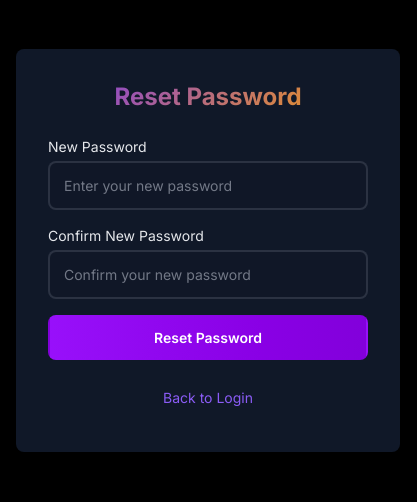
Test case: ResetPasswordClient › handles network error during password reset
In the password field labelled "New Password": (208, 185) [48,160,368,210], type "newpassword123"
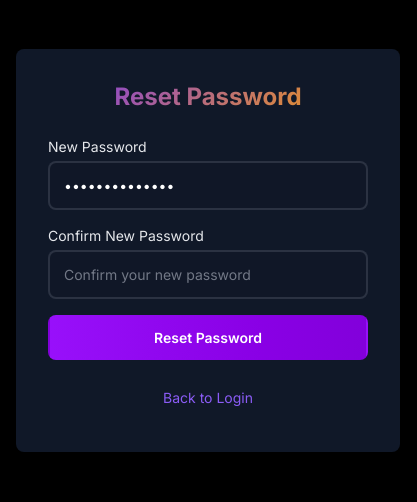
In the password field labelled "Confirm New Password": (208, 274) [48,250,368,298], type "newpassword123"
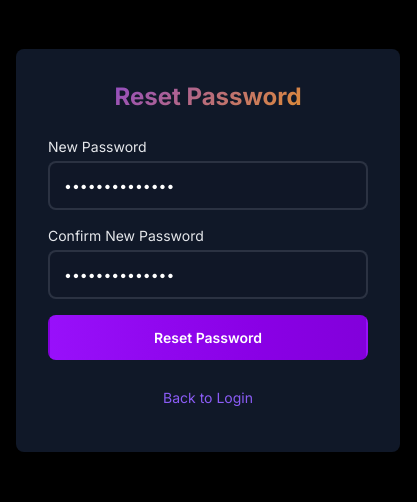
Click the button "Reset Password": (208, 337) [48,314,368,360]
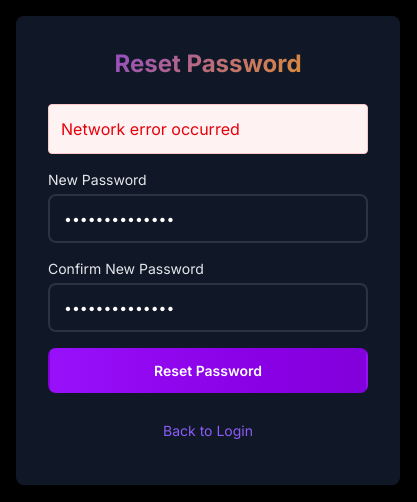
Check: the text "Network error occurred" is shown, box [48,104,368,154]
